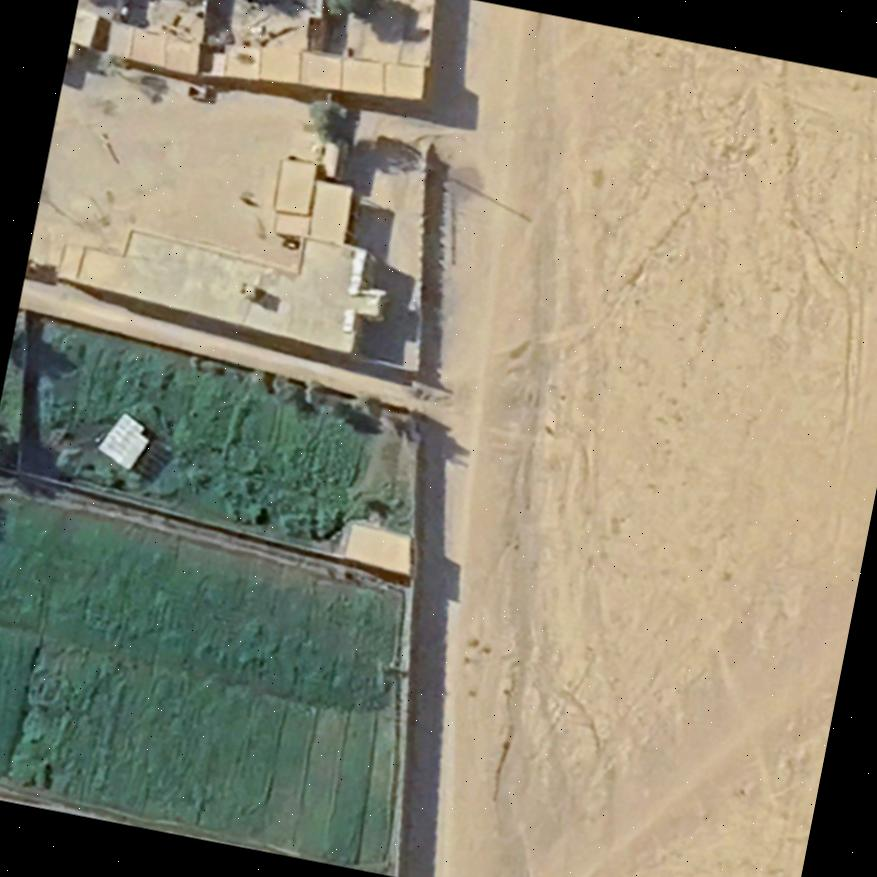Solarpanel: (90, 407, 155, 476), (343, 243, 368, 294), (337, 302, 358, 331)
